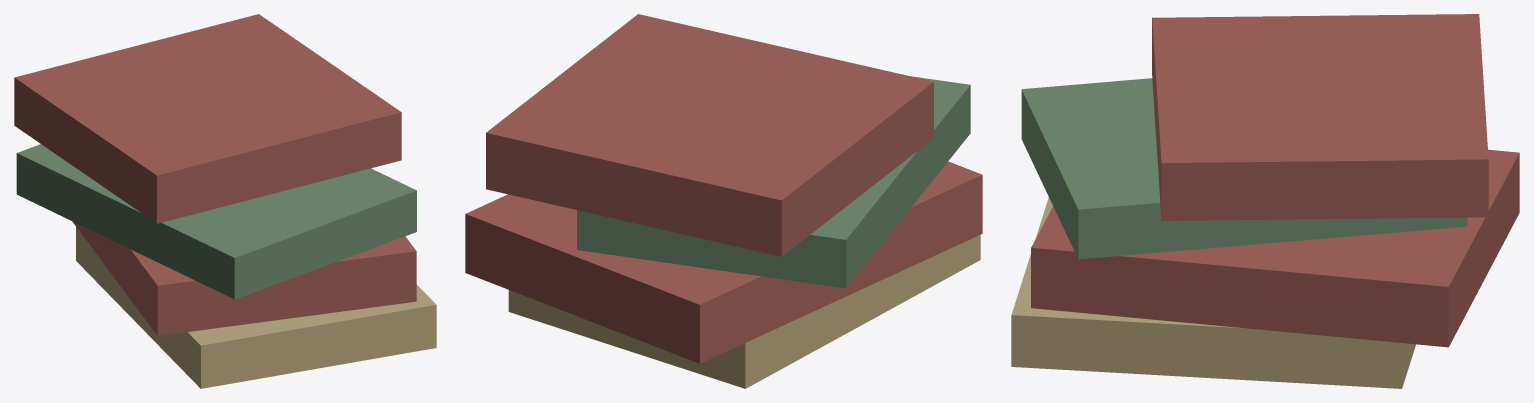
File: mov_bf3739a129.gltf
The picture shows the model from 3 angles, left to right: view 1: azimuth 30°, elevation 25°; view 2: azimuth 150°, elevation 25°; view 3: azimuth 270°, elevation 25°; orthographic projection. The views are drawn at different scales.
Visible parts, largest first — view 1: mov_bf3739a129; view 2: mov_bf3739a129; view 3: mov_bf3739a129.
Part boxes in pixels (<box>): mov_bf3739a129: <box>14,14,436,388</box>; mov_bf3739a129: <box>465,14,982,388</box>; mov_bf3739a129: <box>1011,14,1519,388</box>.
Size of the model in its own units: 0.2955 by 0.1675 by 0.3509.
